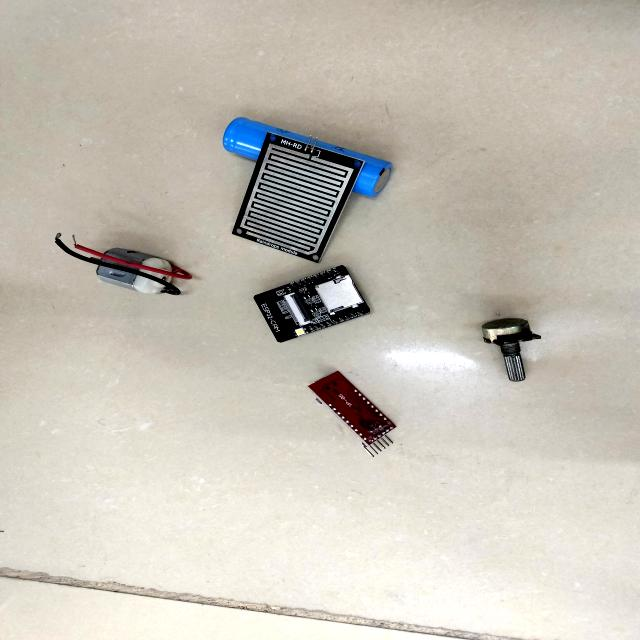3-3-Volt-Battery: (215, 110, 398, 205)
DC-Motor: (91, 241, 183, 299)
ESP32-CAM: (254, 264, 375, 346)
FT-232-USB-Serial-Module: (302, 366, 403, 462)
Raindrops-Module: (226, 131, 366, 272)
Taper-Potentiometer: (474, 312, 546, 389)
